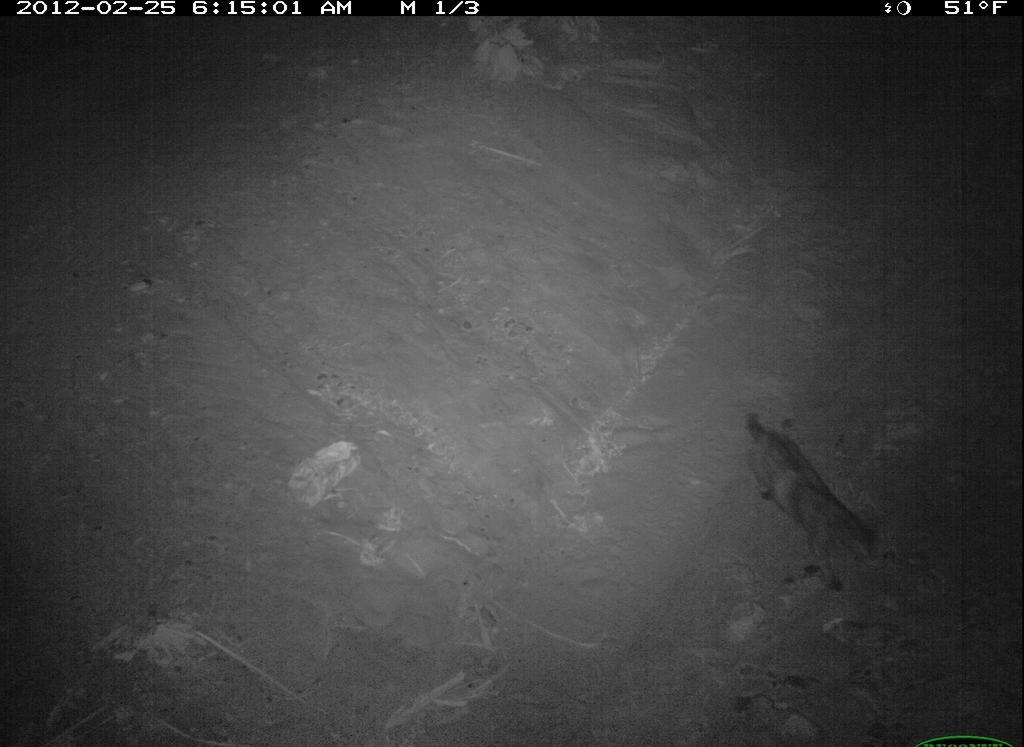cat: (735, 406, 895, 601)
